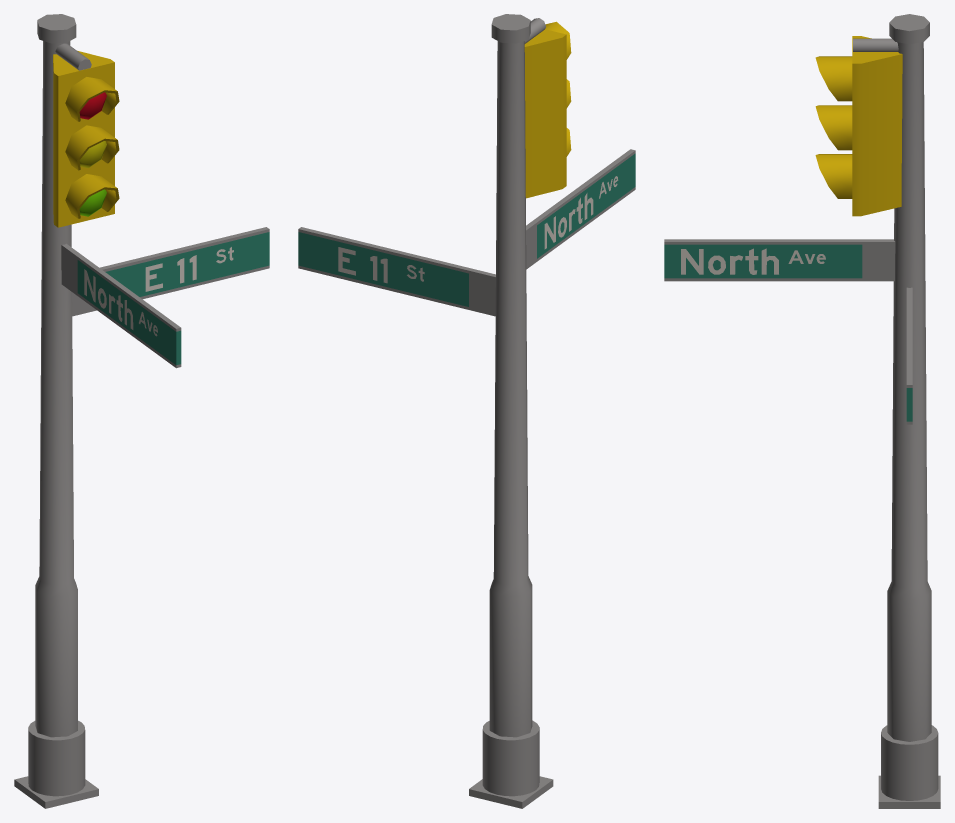
The model's file is quaternius-zombie-apocalypse-kit-march-trafficlight-1.glb.
3 renders of one model, left to right at view 1: azimuth 30°, elevation 25°; view 2: azimuth 150°, elevation 25°; view 3: azimuth 270°, elevation 25°, orthographic.
Visible parts, largest first — view 1: TrafficLight_1; view 2: TrafficLight_1; view 3: TrafficLight_1.
Boxes of the visible parts, bbox=[...] form: TrafficLight_1: bbox=[14, 14, 269, 808]; TrafficLight_1: bbox=[298, 14, 635, 808]; TrafficLight_1: bbox=[664, 14, 940, 808].
Bounding box in the file's own units: 1.51 × 4.66 × 1.51.
1 material, 1 textured.
